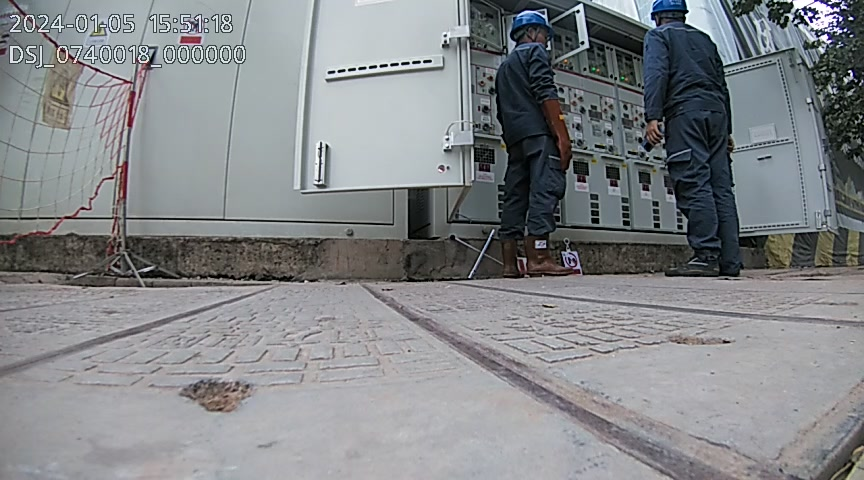halt: (512, 13, 556, 49), (652, 3, 691, 29)
inear: (526, 26, 545, 43)
